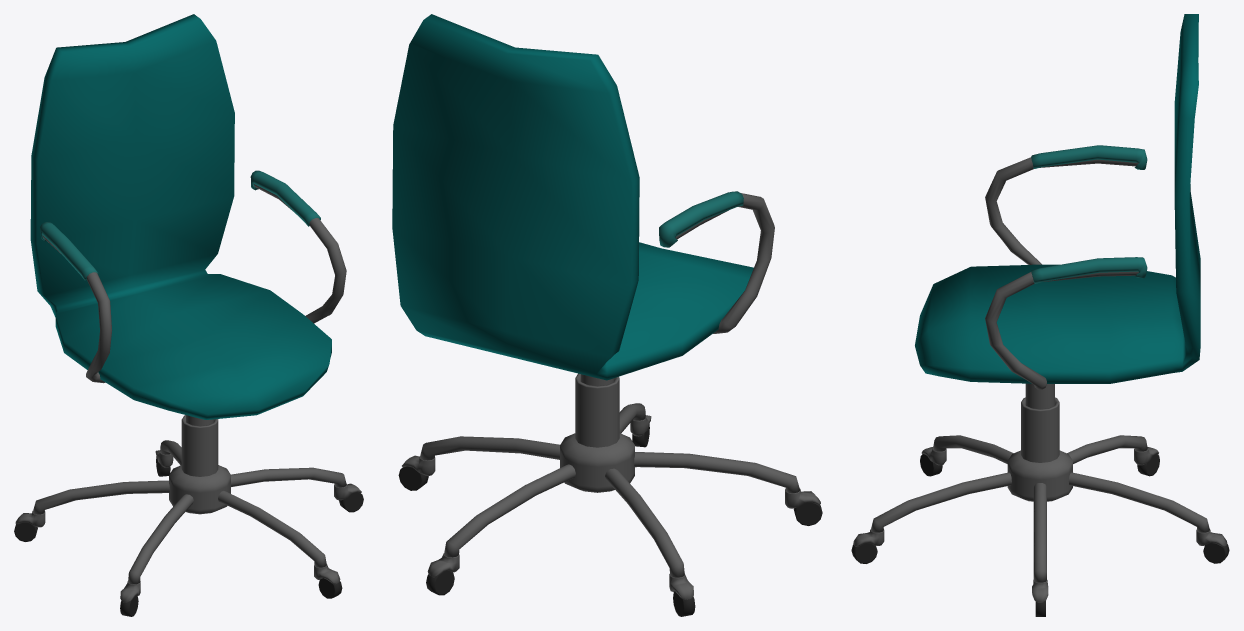
Rendered from OfficeChair.fbx.
3 views of the same model, side by side, from view 1: azimuth 30°, elevation 25°; view 2: azimuth 150°, elevation 25°; view 3: azimuth 270°, elevation 25° (orthographic). The views are drawn at different scales.
Parts seen in each view (by area): view 1: Circle.003, Circle.005, Circle.004; view 2: Circle.003, Circle.005, Circle.004; view 3: Circle.003, Circle.005, Circle.004.
Part boxes in pixels (<box>): Circle.003: <box>30,14,331,514</box>; Circle.005: <box>14,440,363,616</box>; Circle.004: <box>40,170,346,383</box>; Circle.003: <box>392,14,753,492</box>; Circle.005: <box>398,403,822,616</box>; Circle.004: <box>659,191,774,333</box>; Circle.003: <box>915,14,1200,501</box>; Circle.005: <box>851,435,1229,616</box>; Circle.004: <box>985,145,1147,389</box>.
Size of the model in its own units: 0.8498 by 1.27 by 0.8929.
